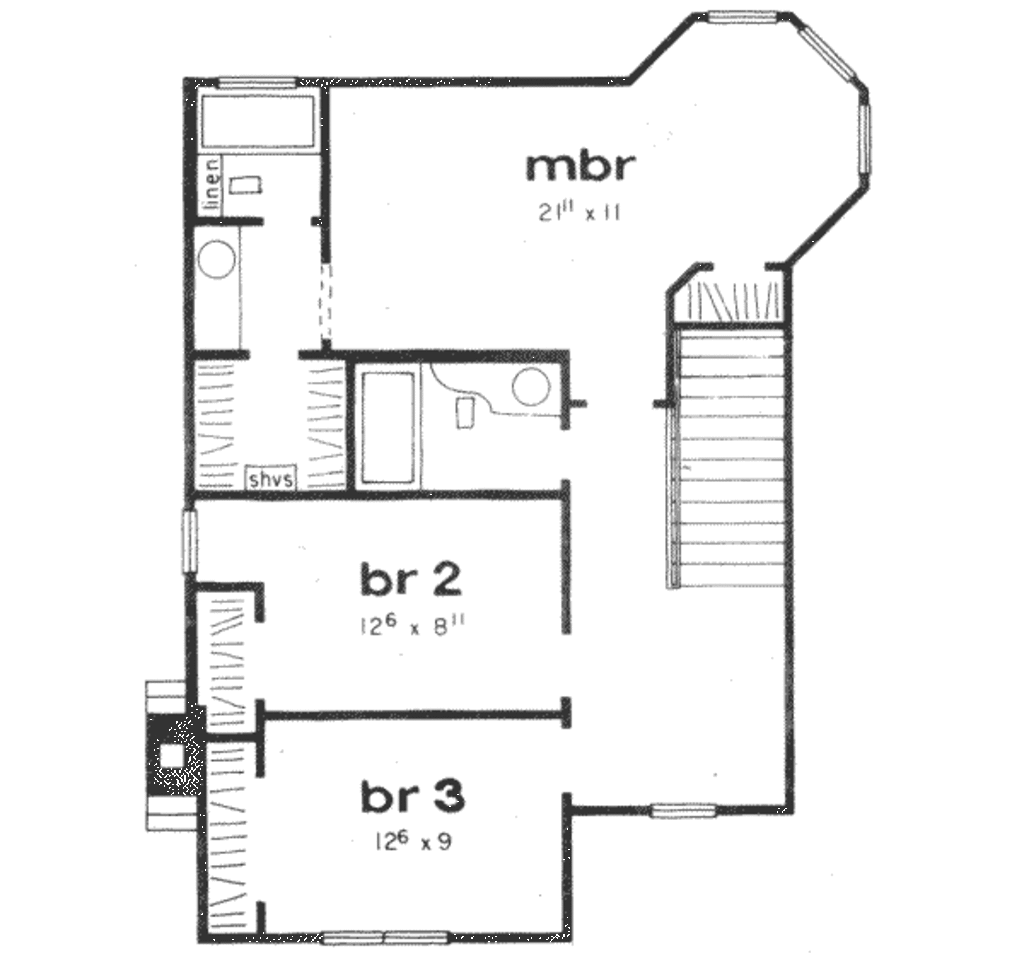small_sink: (489, 359, 559, 415), (186, 230, 250, 285)
stairs: (665, 321, 785, 605)
tub: (356, 359, 424, 488), (196, 92, 321, 155)
window: (802, 14, 879, 81), (318, 926, 454, 947), (644, 795, 724, 815), (218, 73, 302, 92), (705, 8, 785, 26), (185, 508, 202, 575), (859, 101, 872, 172)
